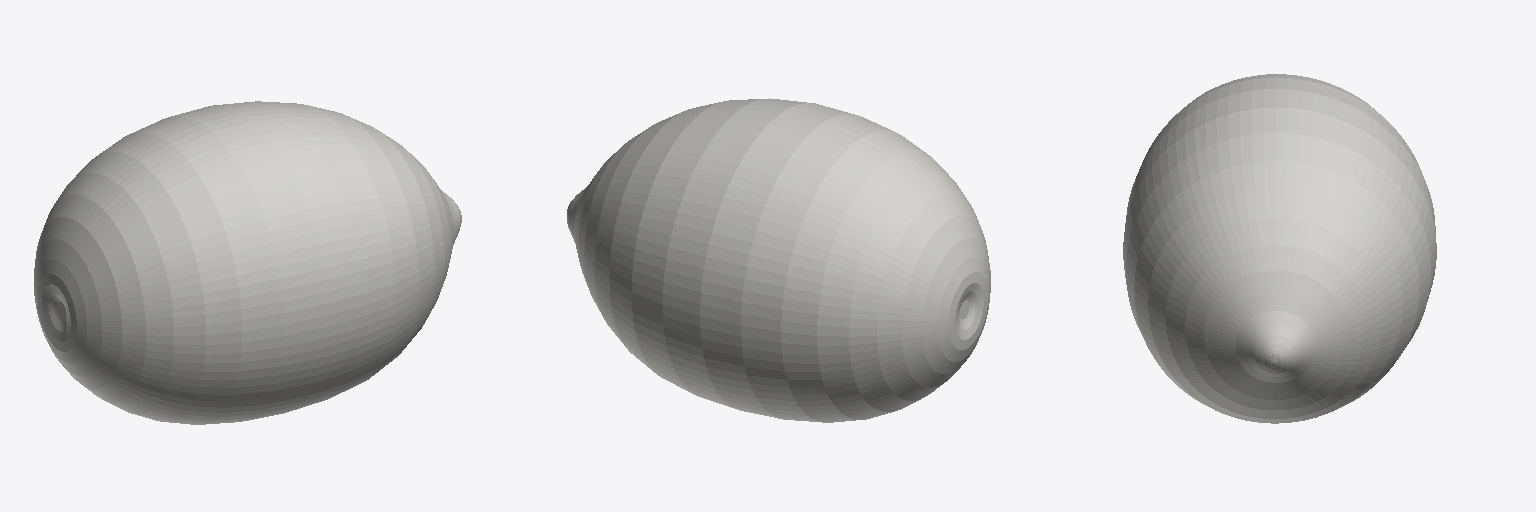
File: LemonFascia.obj
3 views of the same model, side by side, from view 1: azimuth 30°, elevation 25°; view 2: azimuth 150°, elevation 25°; view 3: azimuth 270°, elevation 25° (orthographic).
Visible parts, largest first — view 1: LemonFascia; view 2: LemonFascia; view 3: LemonFascia.
Part boxes in pixels (bbox=[...]): LemonFascia: bbox=[34, 101, 461, 424]; LemonFascia: bbox=[567, 98, 990, 422]; LemonFascia: bbox=[1123, 74, 1436, 423].
Bounding box in the file's own units: 0.0839 × 0.0573 × 0.0568.